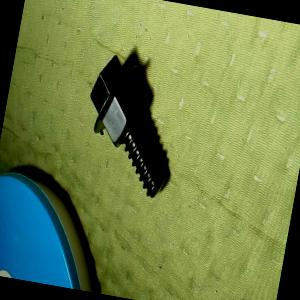parafuso: (72, 50, 188, 204)
